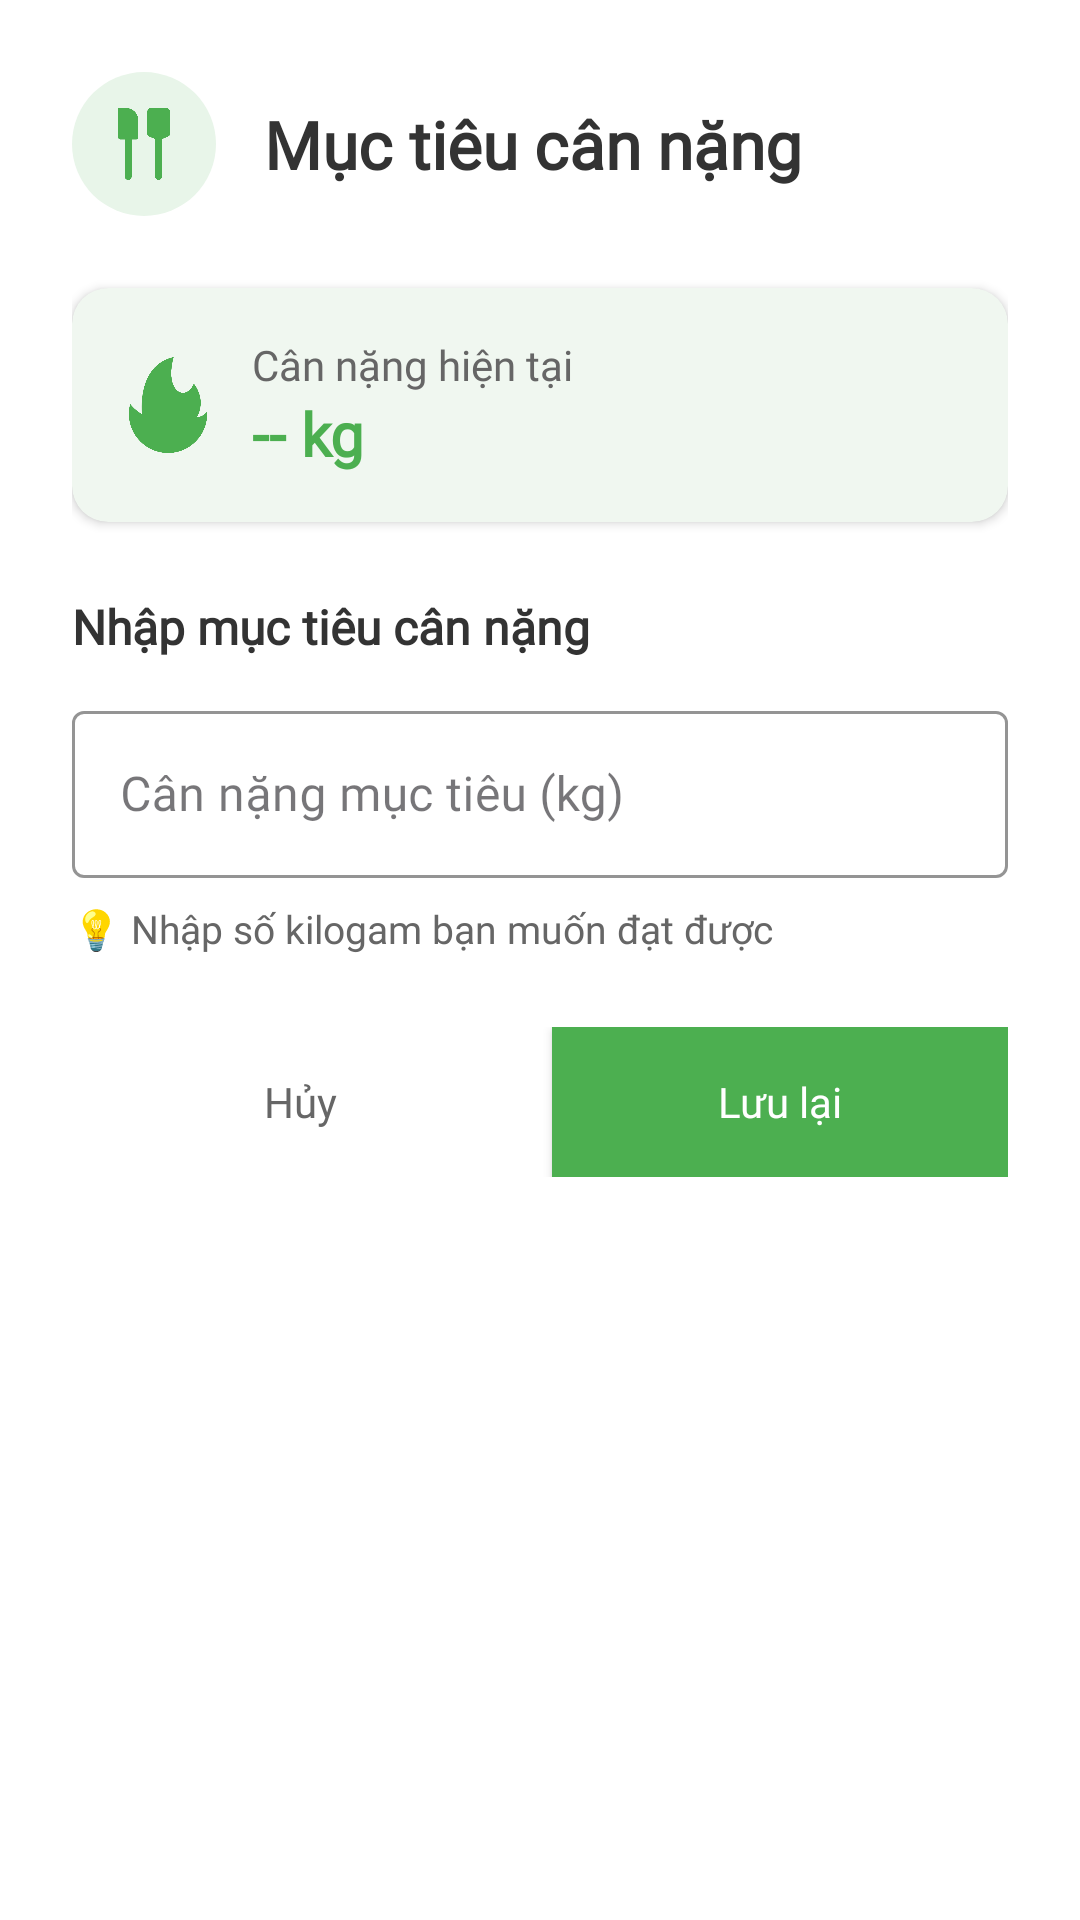

Point at icon controls on the screen. Image size 1080x1920, points as point (x, y).
plate: point (144, 144)
